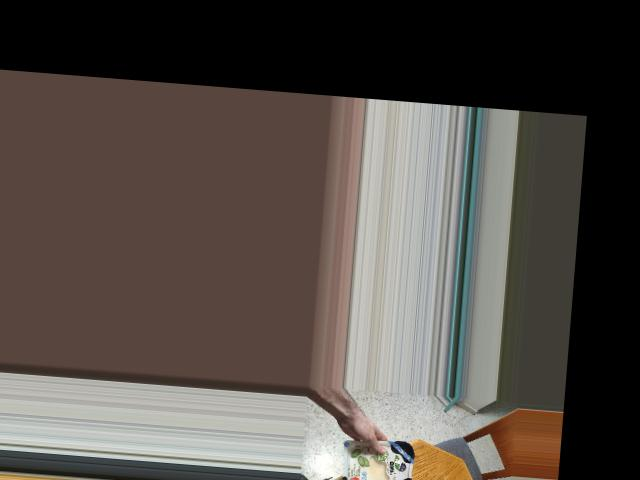cheese: (327, 438, 426, 480)
